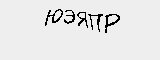П: (89, 12, 100, 34)
Р: (104, 11, 120, 37)
Э: (63, 7, 77, 26)
Ю: (45, 7, 62, 30)
Я: (76, 9, 87, 30)
